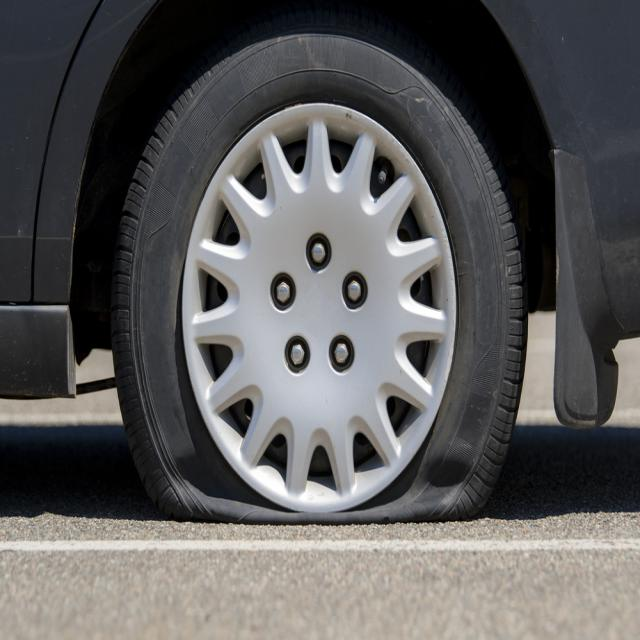tire flat: (109, 0, 530, 529)
